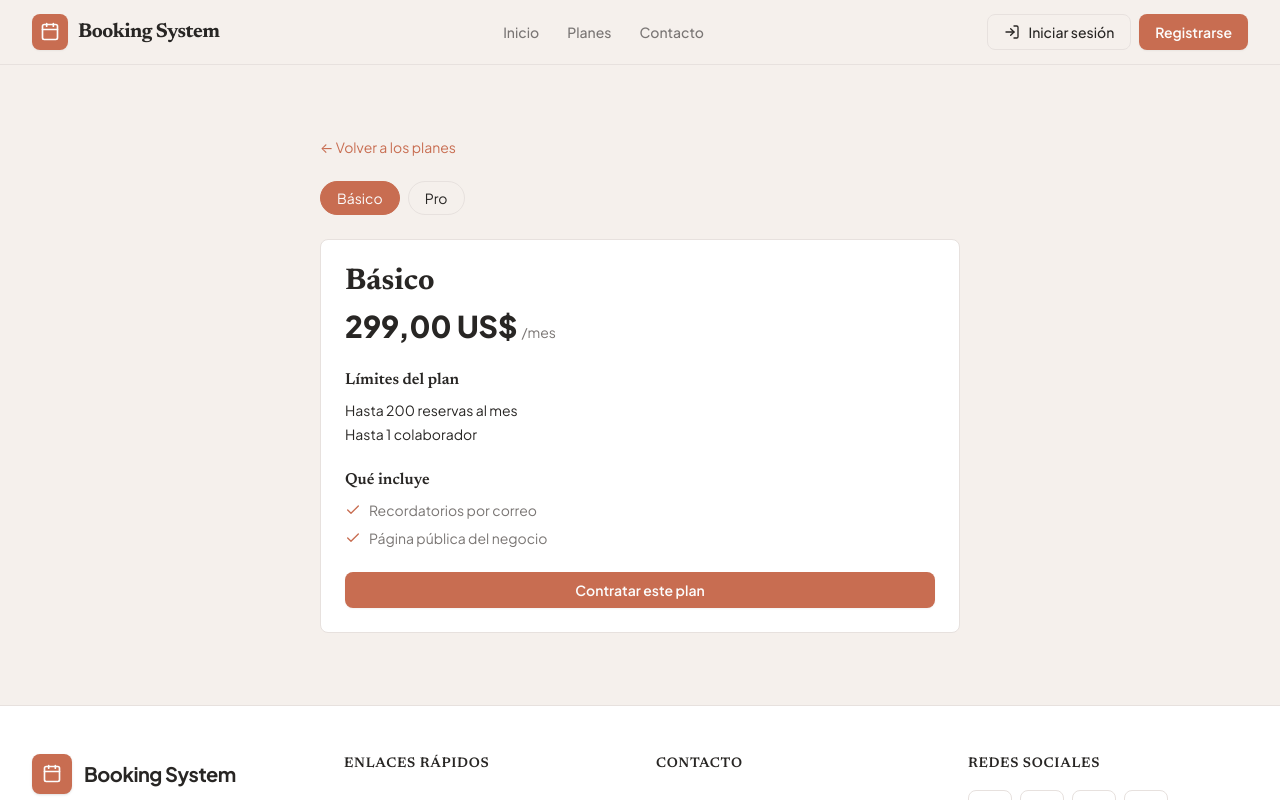
Test case: PlanDetailPage (KAN-21) › KAN-21: AC-KAN-21-10 does not open the checkout of a plan deactivated after the page loaded
Click the button "Contratar este plan" at (640, 590), box x1=345 y1=572 x2=935 y2=608
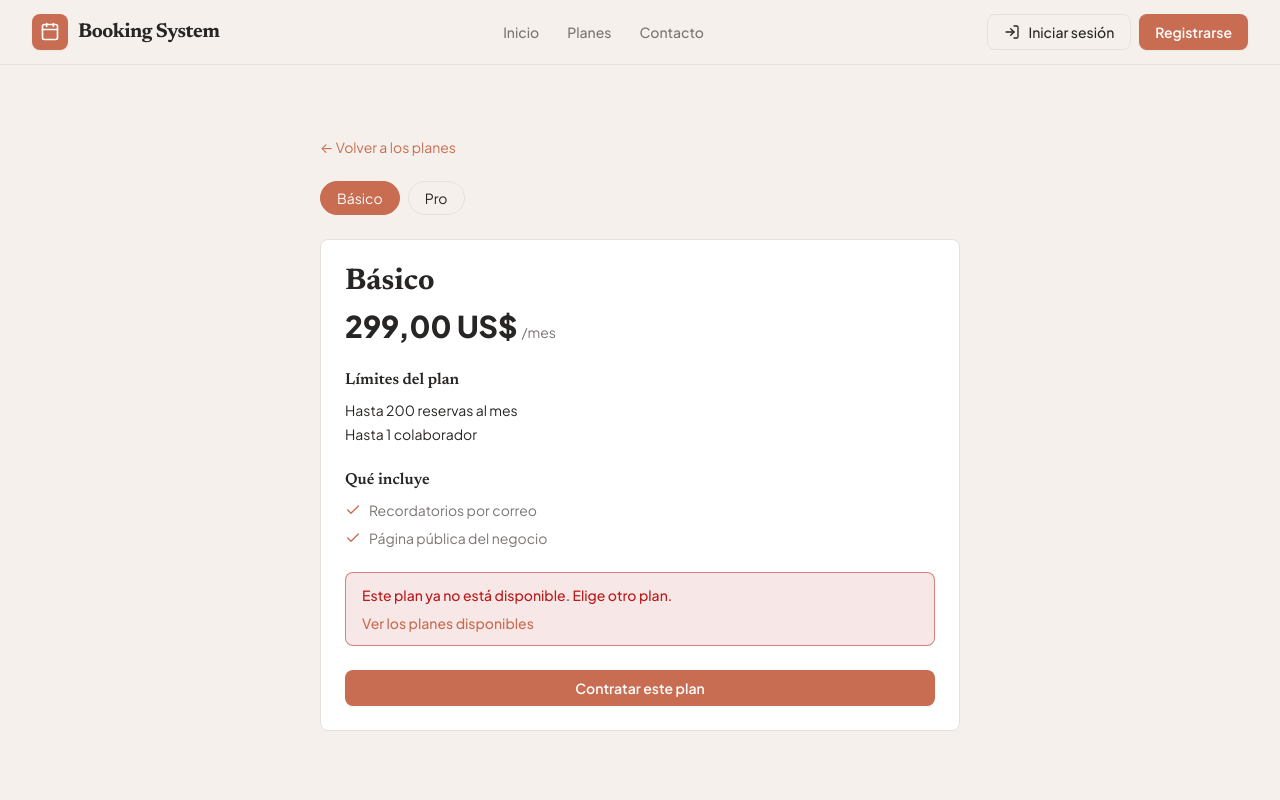
Expected: the heading "Básico" is shown, x1=345 y1=267 x2=434 y2=297
Now the text "Este plan ya no está disponible. Elige otro plan." is shown, box x1=362 y1=586 x2=672 y2=604
